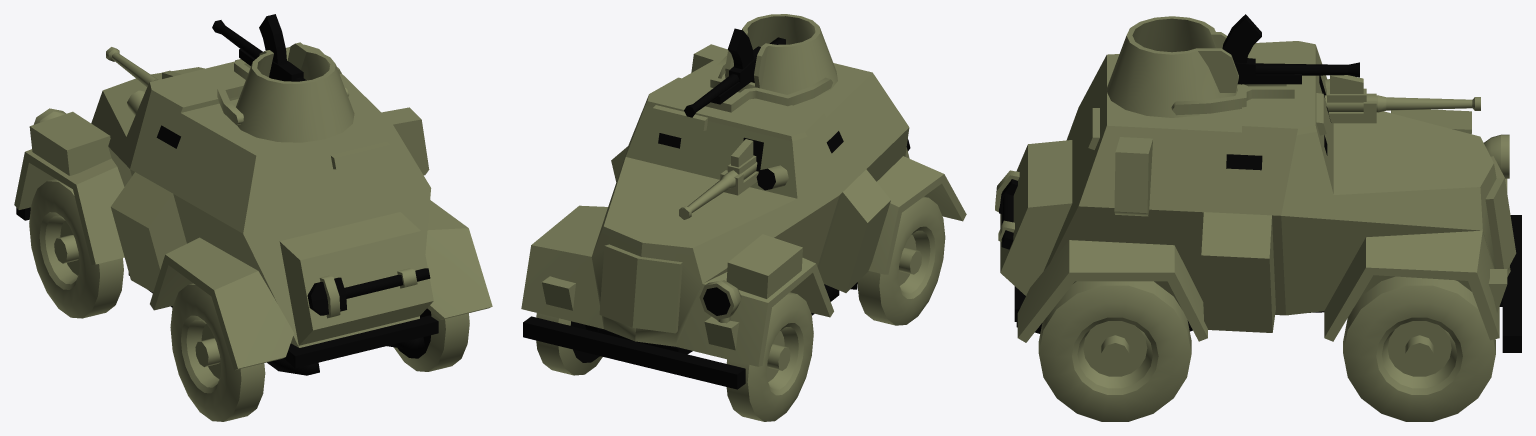
The model's file is Tank_UK_Humber_LRC.fbx.
3 renders of one model, left to right at view 1: azimuth 30°, elevation 25°; view 2: azimuth 150°, elevation 25°; view 3: azimuth 270°, elevation 25°, orthographic. The views are drawn at different scales.
Parts seen in each view (by area): view 1: hull, turret, tire_back, tire_front_l, gun, wheel_back, wheel_front_l, gun_hull; view 2: hull, turret, tire_back, tire_front_l, gun, wheel_front_l, wheel_back, gun_hull, tire_front_r; view 3: hull, tire_front_r, tire_back, turret, wheel_front_r, wheel_back, gun, gun_hull.
Boxes of the visible parts, x1,y1,x2,y2 form: hull: (14,44,492,375); turret: (236,42,354,142); tire_back: (170,283,469,421); tire_front_l: (29,179,123,318); gun: (212,14,349,125); wheel_back: (181,308,431,393); wheel_front_l: (39,212,79,289); gun_hull: (106,47,181,86); hull: (521,44,966,389); turret: (725,14,837,95); tire_back: (857,196,945,325); tire_front_l: (726,292,813,421); gun: (684,28,832,117); wheel_front_l: (766,323,803,395); wheel_back: (898,226,935,298); gun_hull: (679,139,758,219); tire_front_r: (536,313,602,375); hull: (995,41,1521,352); tire_front_r: (1343,276,1495,421); tire_back: (1038,281,1191,421); turret: (1106,16,1238,117); wheel_front_r: (1376,317,1462,394); wheel_back: (1072,317,1158,394); gun: (1171,14,1359,115); gun_hull: (1324,75,1480,123).
Bounding box in the file's own units: 287 × 441 × 325.
